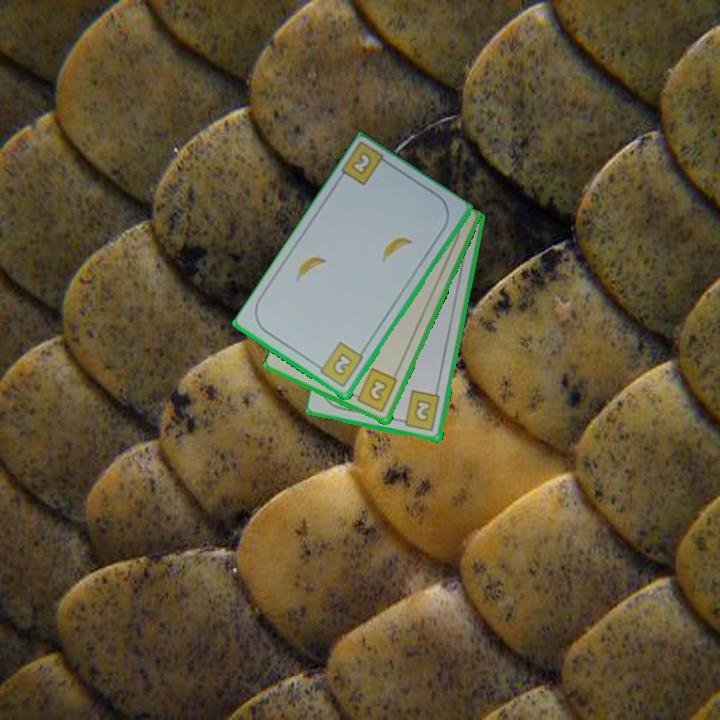2b: (312, 339, 367, 391), (349, 365, 400, 416), (396, 388, 443, 434), (348, 149, 375, 178)
